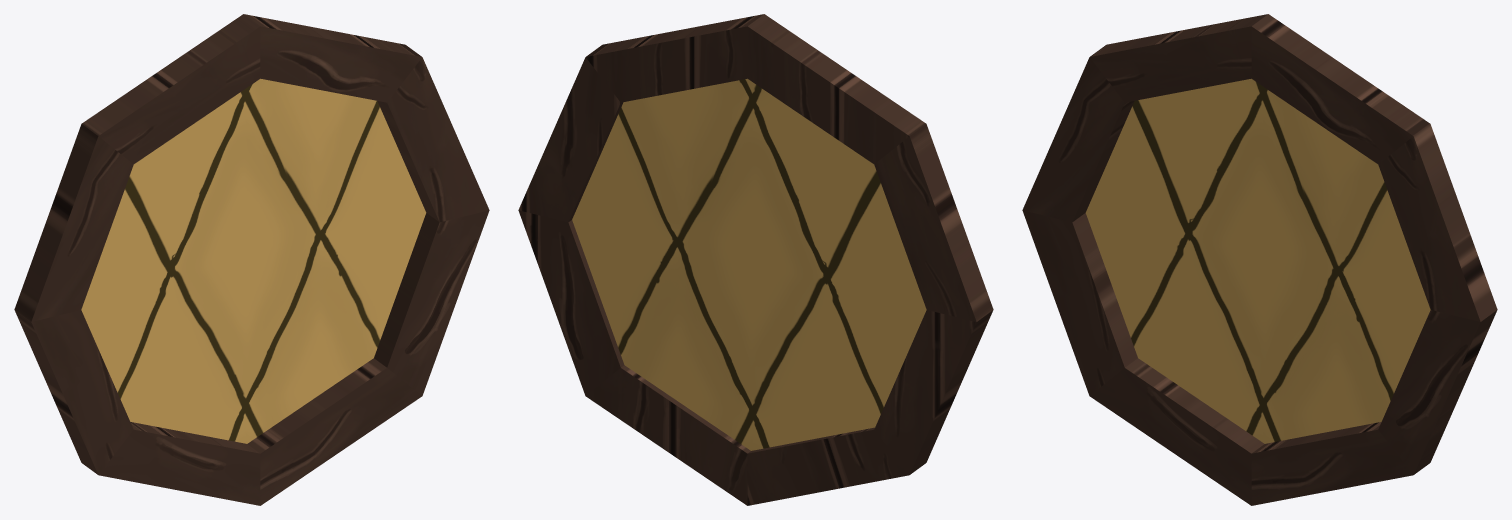
The model's file is HouseWindowRound.fbx.
3 renders of one model, left to right at view 1: azimuth 30°, elevation 25°; view 2: azimuth 150°, elevation 25°; view 3: azimuth 330°, elevation 25°, orthographic.
Parts seen in each view (by area): view 1: House.019; view 2: House.019; view 3: House.019.
Part boxes in pixels (x1=…): House.019: x1=14, y1=14, x2=489, y2=505; House.019: x1=518, y1=14, x2=993, y2=505; House.019: x1=1022, y1=14, x2=1497, y2=505.
Size of the model in its own units: 1.57 by 1.57 by 0.1001.
